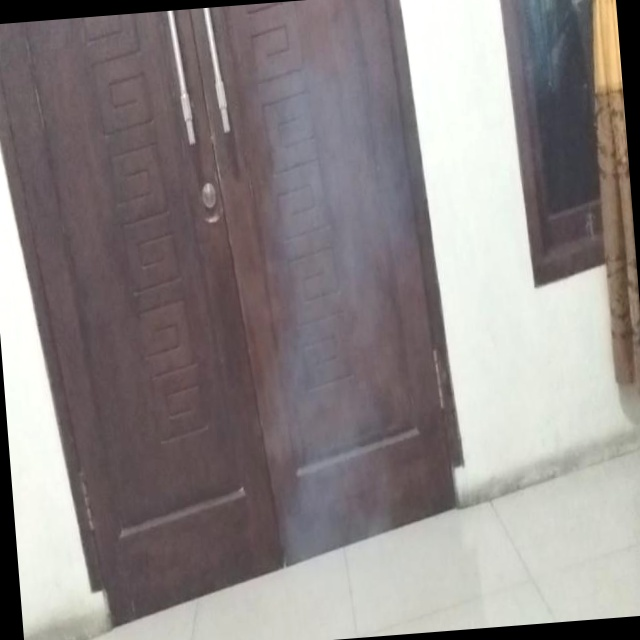smoke: (258, 59, 497, 552)
